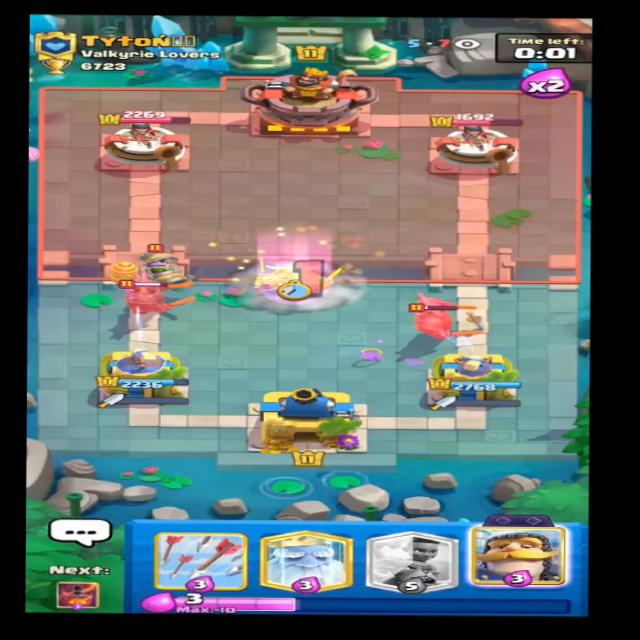goblin-machine: (106, 234, 192, 290)
pekka: (109, 276, 205, 320), (389, 299, 475, 343)
